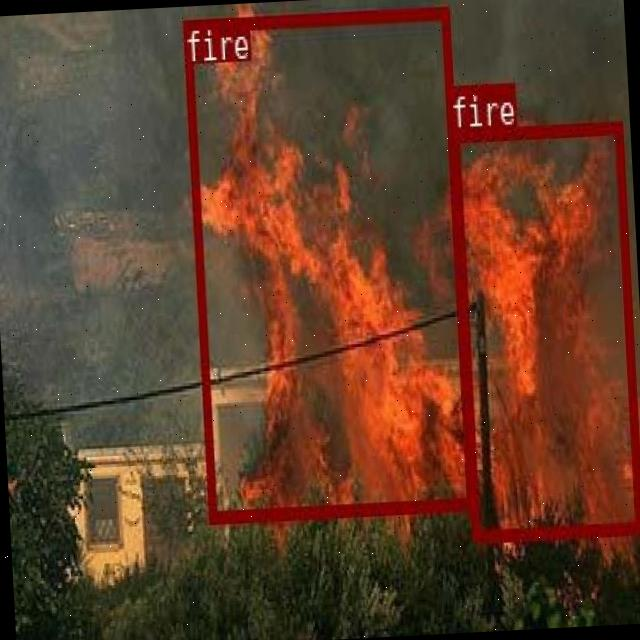fire: (182, 7, 474, 522), (451, 119, 640, 539)
